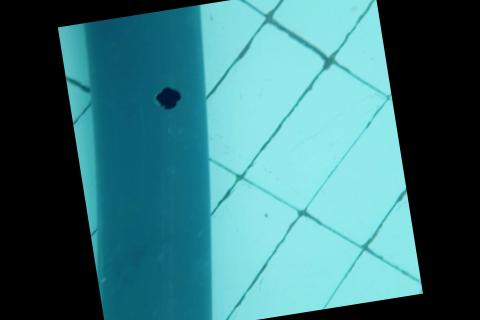kebocoran: (150, 83, 184, 112)
